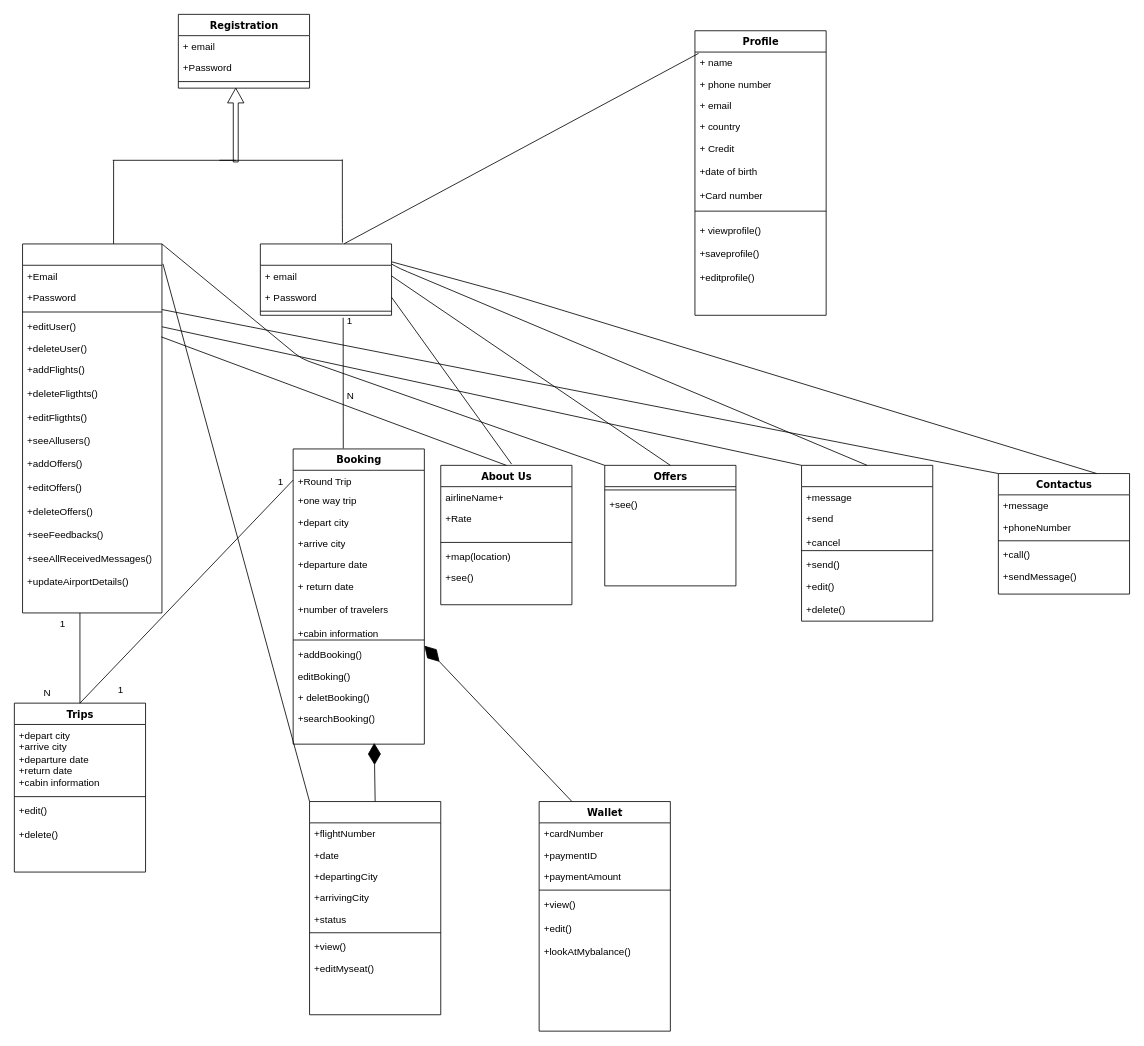
Image size: 1144x1046. Some labels were removed from this diagram. The box of each missing label's shape, as (x1, y1, x2, y2) in pixels:
Admin: (22, 243, 162, 613)
Feedback: (801, 465, 933, 621)
Flight States: (309, 801, 441, 1015)
User: (260, 243, 392, 315)
